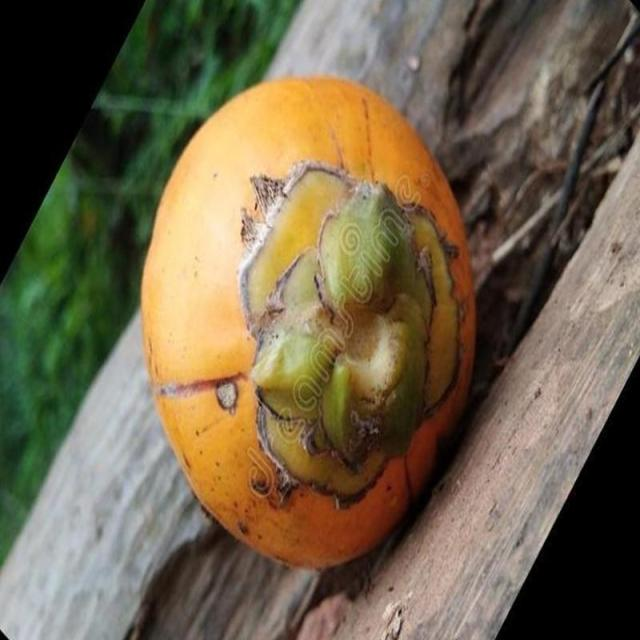good: (140, 79, 479, 579)
